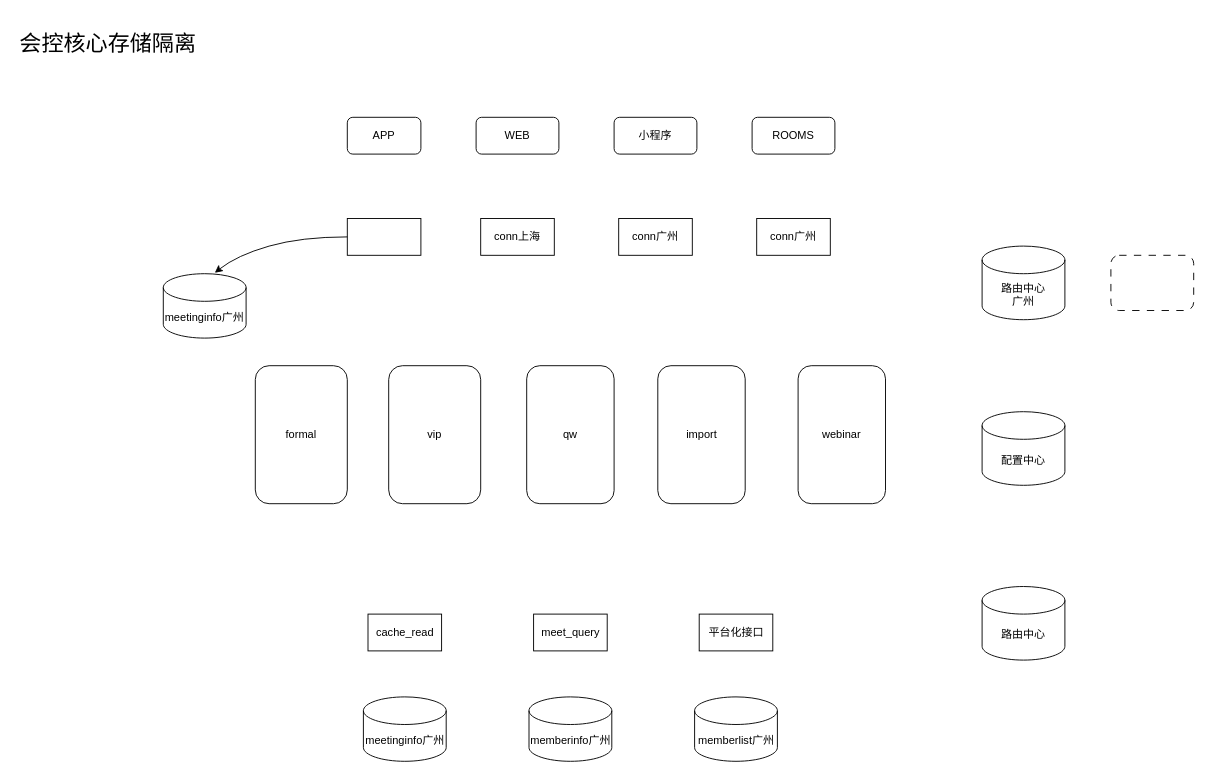
Image size: 1210x777. Some labels were removed from this diagram. Each missing label, with the centre of its shape:
"conn天津" belongs at pixel 383 236.
"淘汰和历史会议" belongs at pixel 1152 282.
